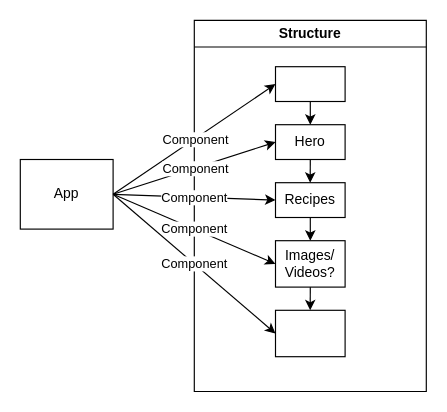
The diagram is 447 pixels wide and 412 high, and some of its shapes have lost their labels. Each missing label, with the box of its shape:
Contact: (274, 309, 345, 357)
Navbar: (274, 66, 345, 102)
